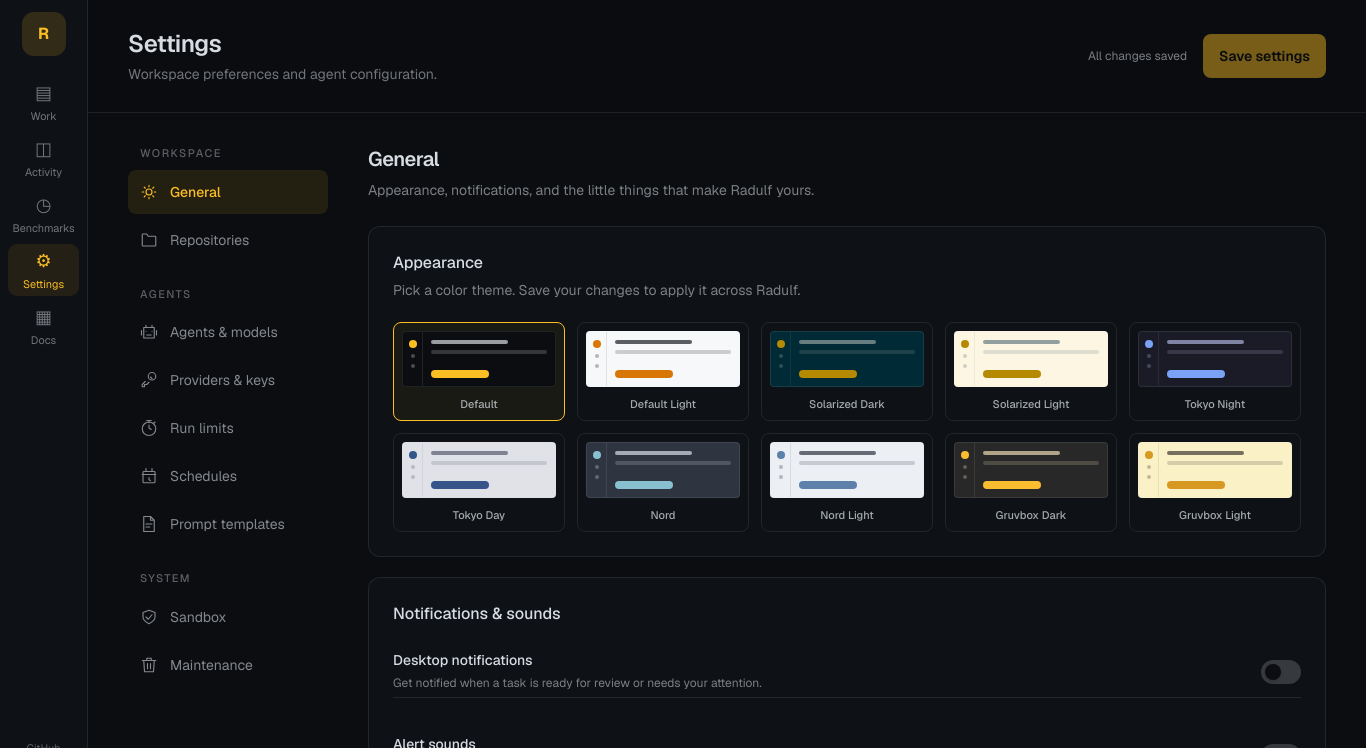
Test: SettingsPage › creates a fresh repository from the folder browser and lists it
expect the heading "General" is shown: met, box [368,146,439,172]
Click the link "Repositories": click(195, 240) [140,230,249,248]
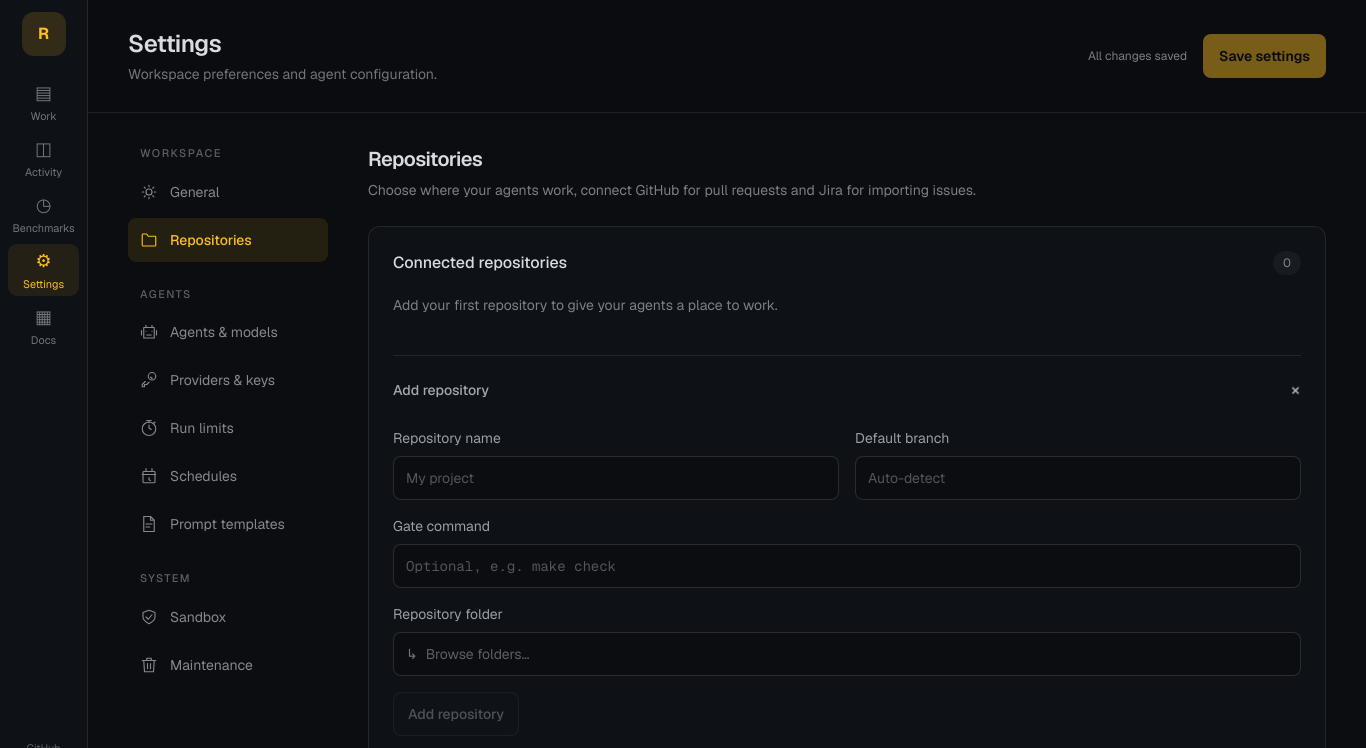
Click the button with aria-label "Choose repository folder": click(478, 654) [393,632,1301,676]
(page scrolled)
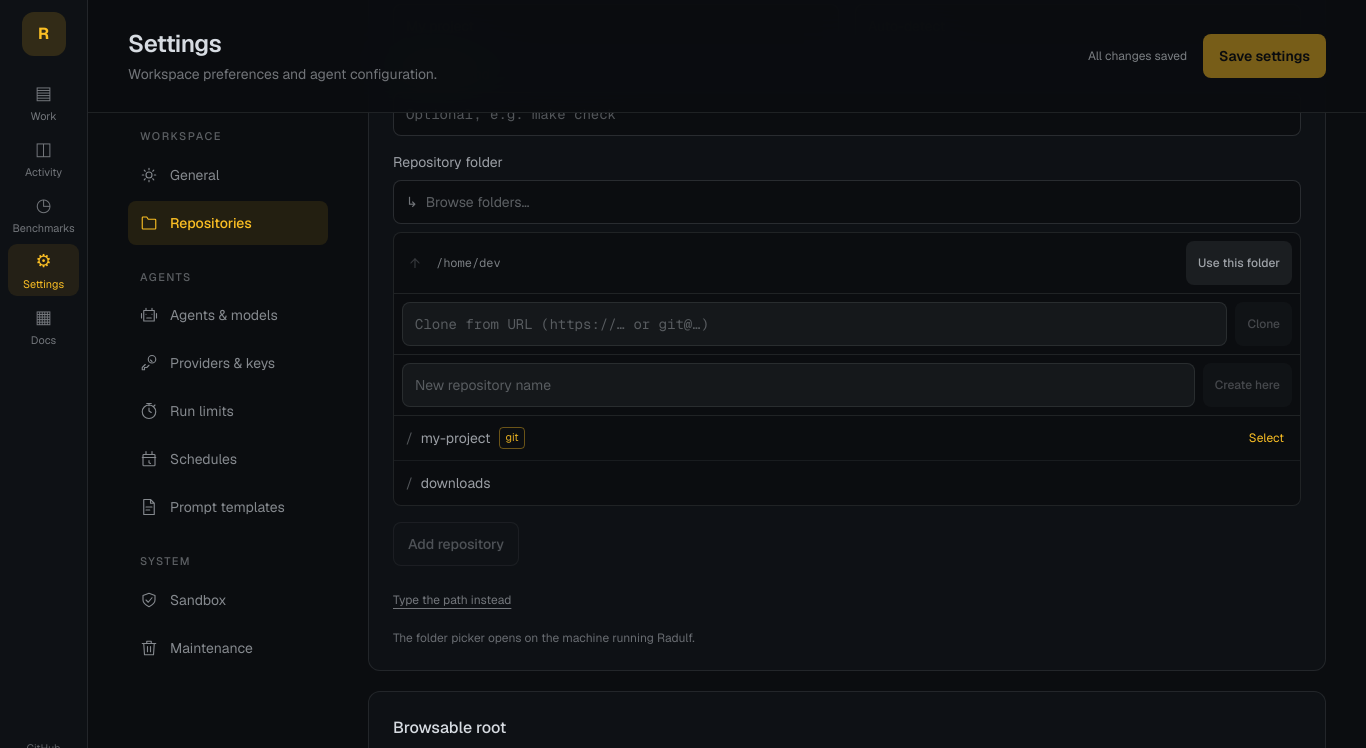
expect the list named "Folders" is shown: met, box [394,416,1300,505]
In the field labelled "New repository name": (798, 385) [402,363,1195,407], type "fresh-project"
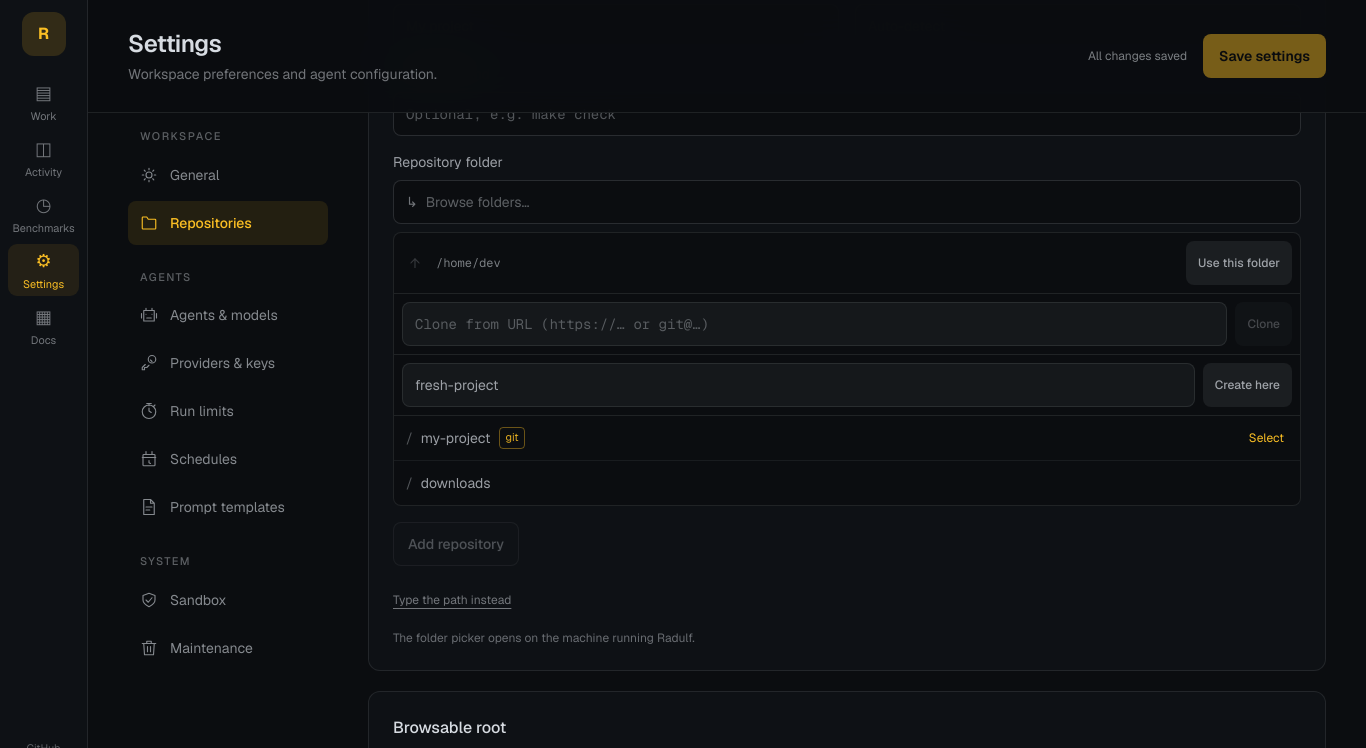
Click the button "Create here": click(1247, 385) [1203,363,1292,407]
(page scrolled)
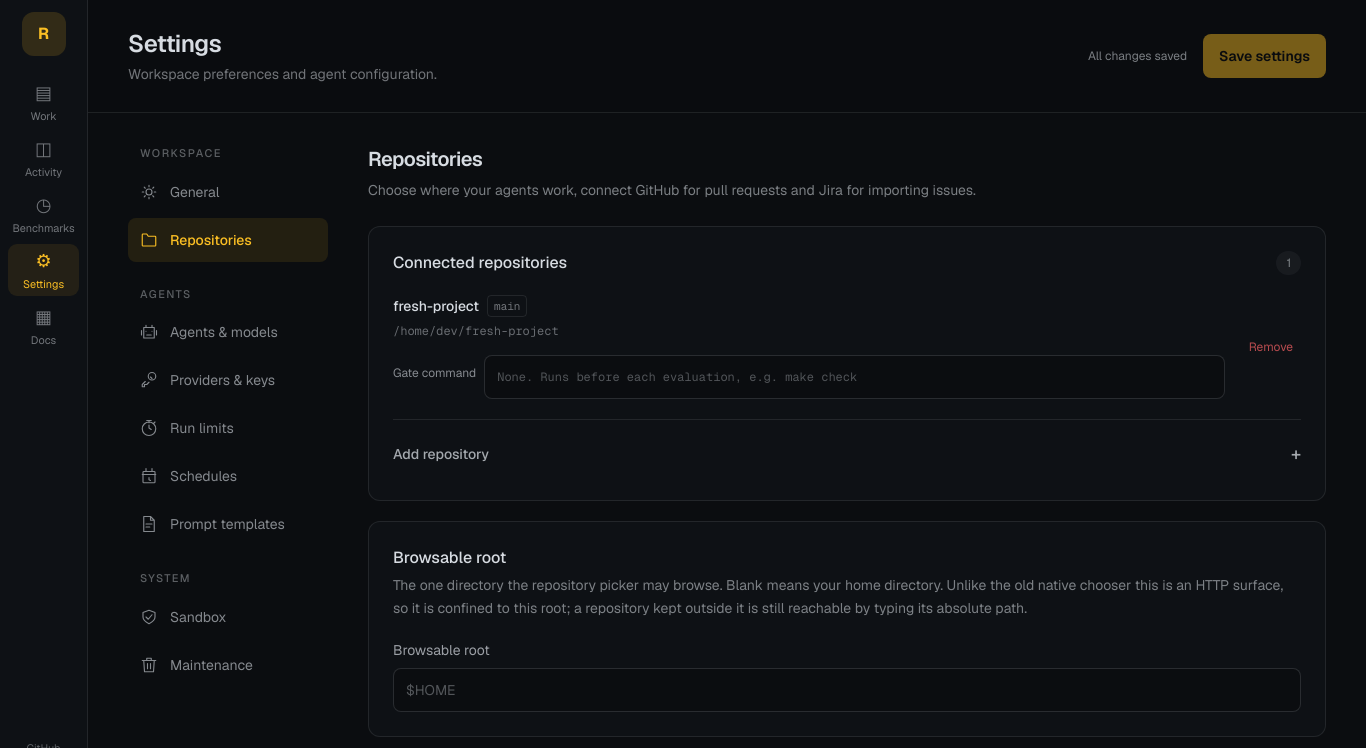
expect the text "fresh-project" is shown: met, box [393,296,479,316]
expect the text "/home/dev/fresh-project" is shown: met, box [393,323,559,339]
expect the button "folders" is gone: met
